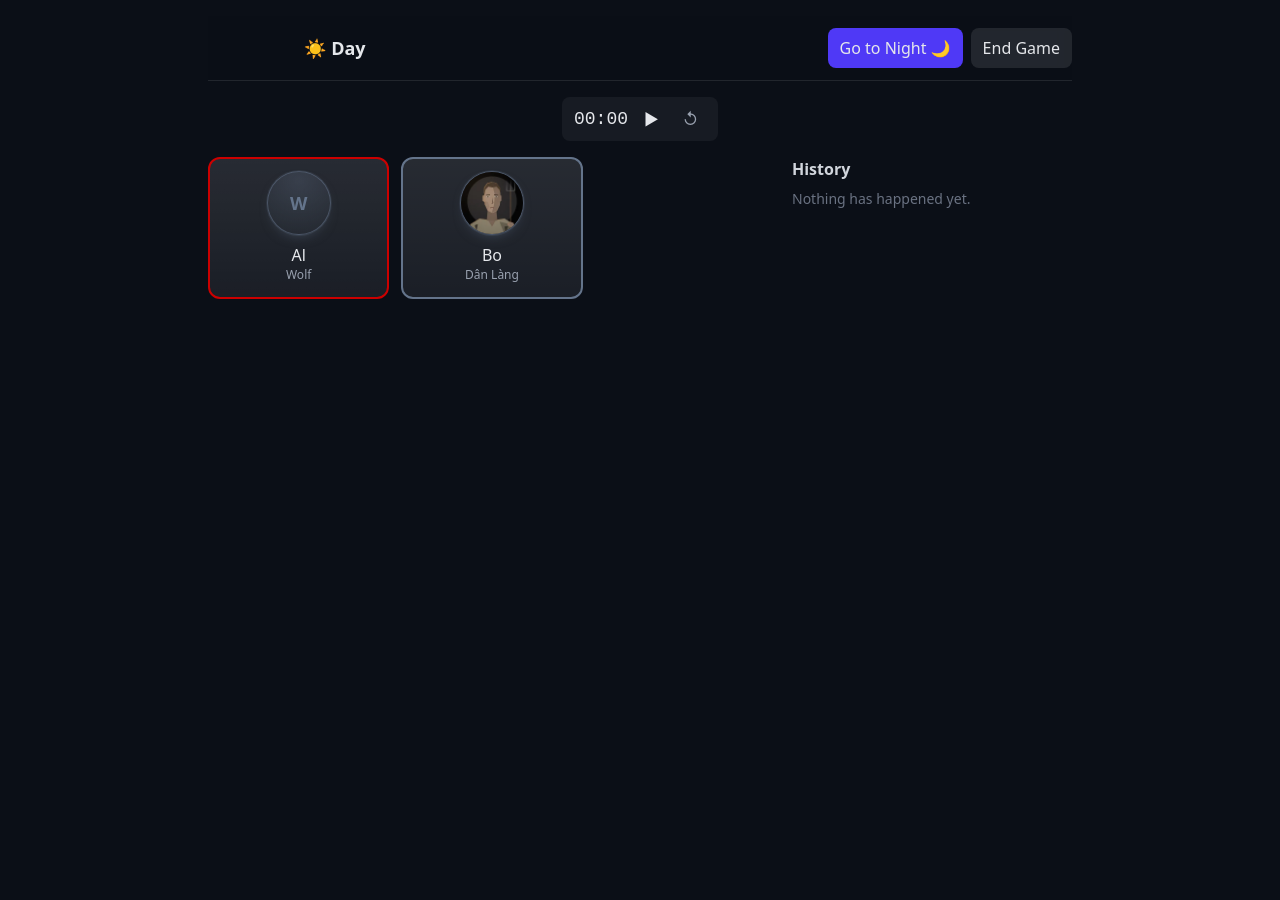
Day player dialog › opens a dialog rather than a menu over the grid
This screenshot has width=1280, height=900.
Click the text "Bo": [492, 255] box [482,244,502,266]
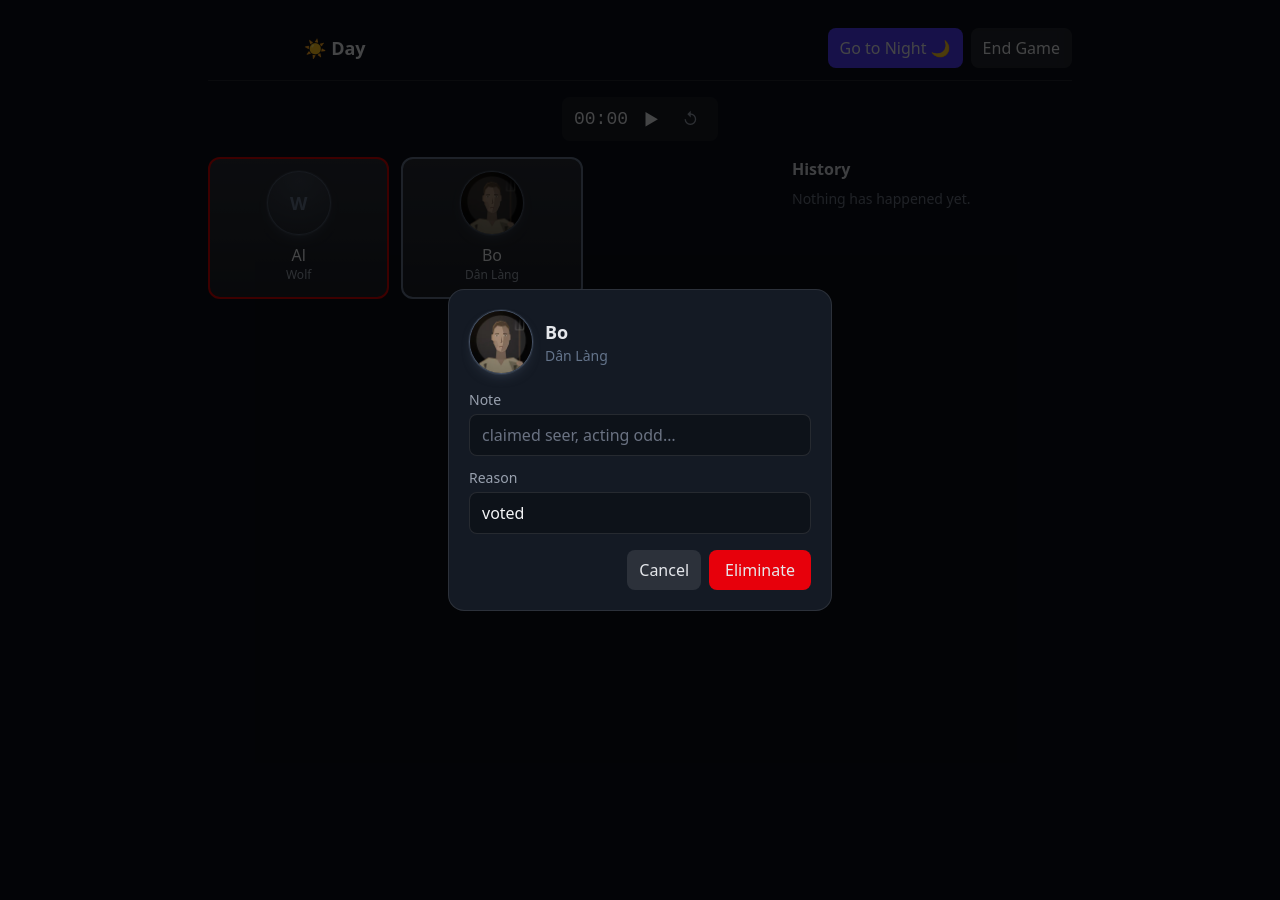
Result: the dialog shows "Bo" at [545,320,568,344]
